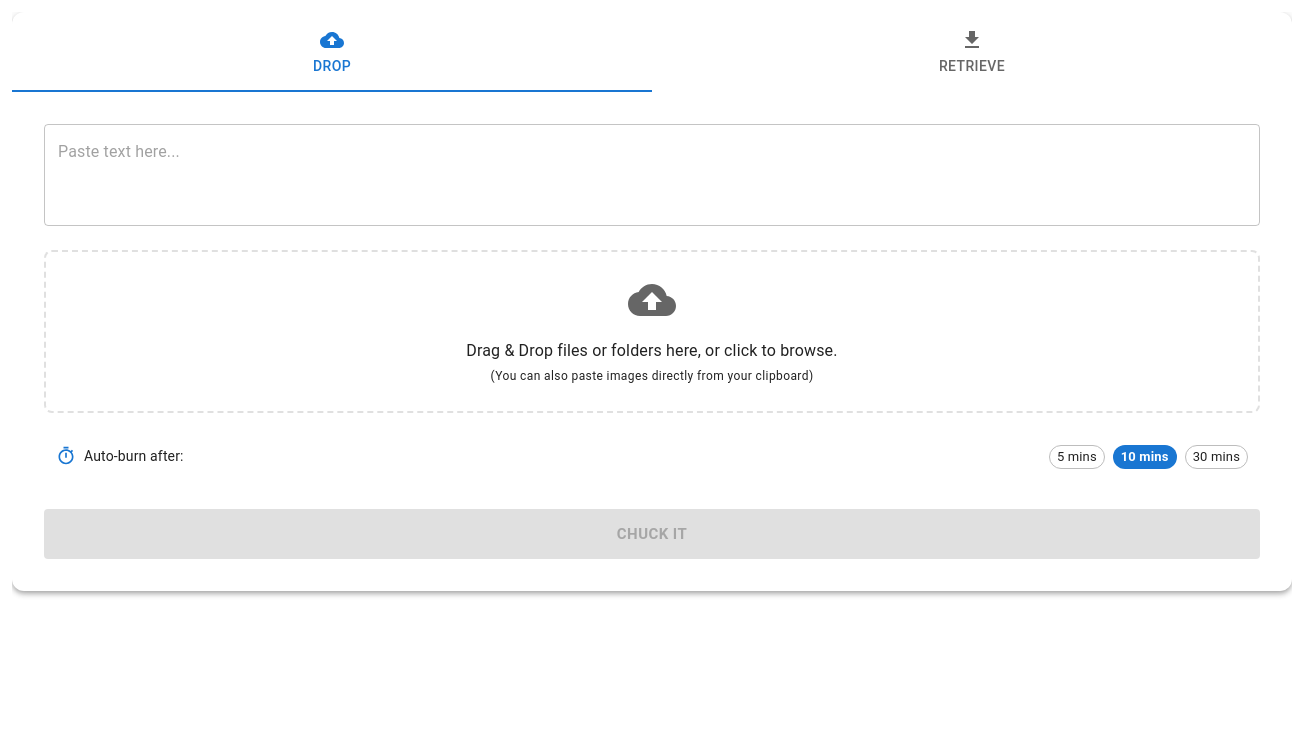
it: TransferHub › extracts the 4-digit PIN rather than the port number when pasting a Quick-Catch URL from clipboard
Click the tab "RETRIEVE" at (972, 52), box top-left (652, 12), bottom-right (1292, 92)
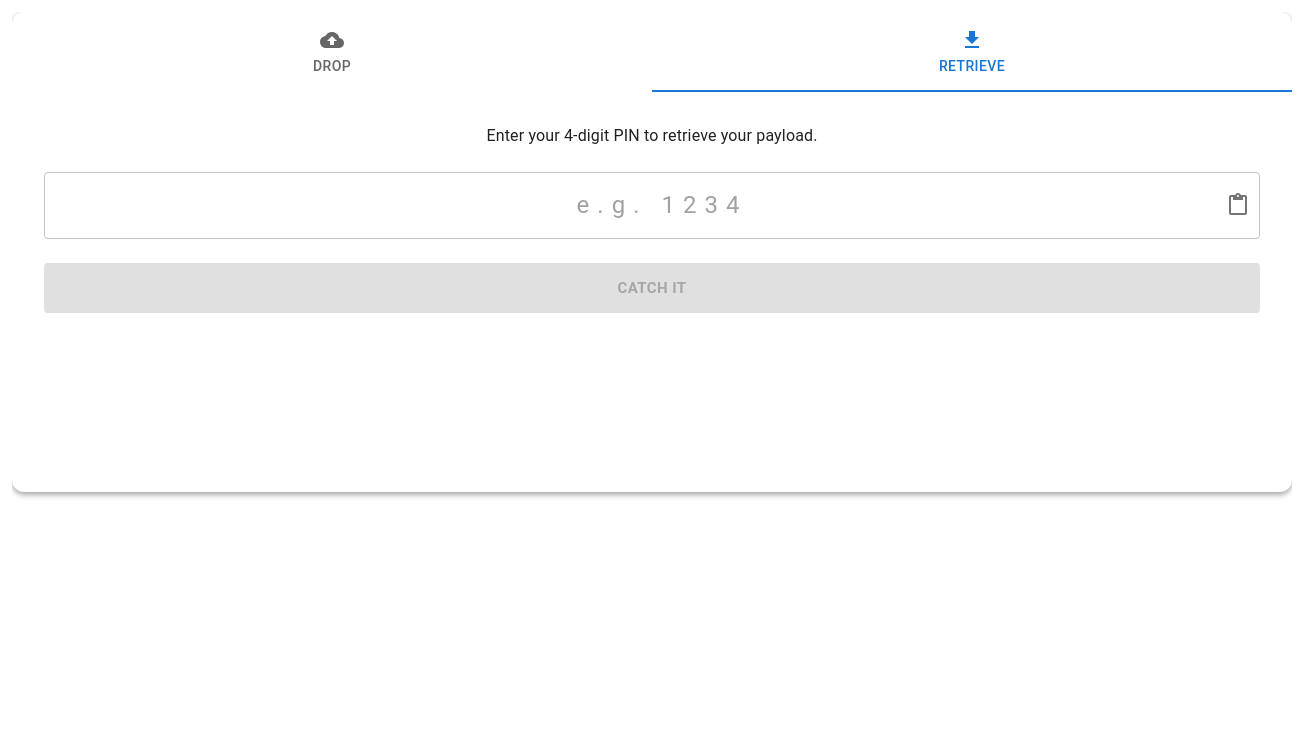
Click the button named "paste pin from clipboard" at (1238, 205), box top-left (1218, 185), bottom-right (1258, 225)
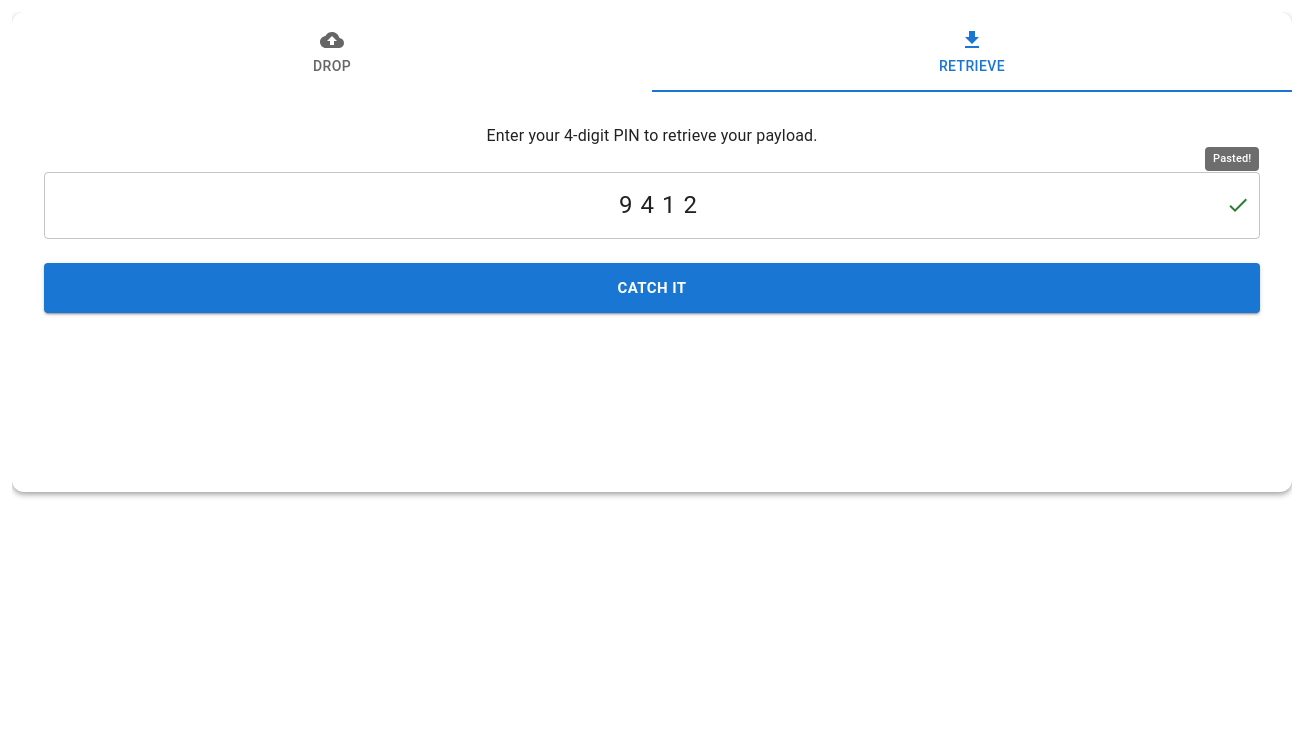
Expected: the field with placeholder "e.g. 1234" holds "9412", top-left (106, 172), bottom-right (1210, 239)
